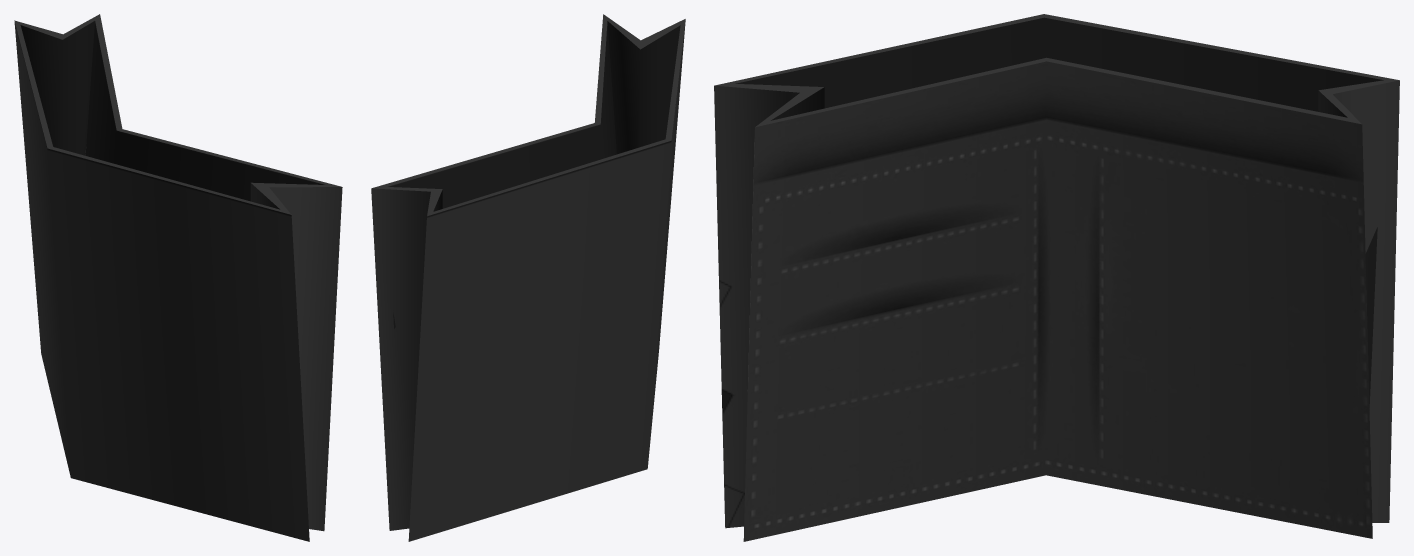
File: Wallet.fbx
3 renders of one model, left to right at view 1: azimuth 30°, elevation 25°; view 2: azimuth 150°, elevation 25°; view 3: azimuth 270°, elevation 25°, orthographic. The views are drawn at different scales.
Parts seen in each view (by area): view 1: Wallet; view 2: Wallet; view 3: Wallet.
Boxes of the visible parts, x1=… form: Wallet: x1=14, y1=14, x2=342, y2=541; Wallet: x1=371, y1=14, x2=685, y2=541; Wallet: x1=714, y1=14, x2=1399, y2=541.
Size of the model in its own units: 0.1008 by 0.1778 by 0.2579.
